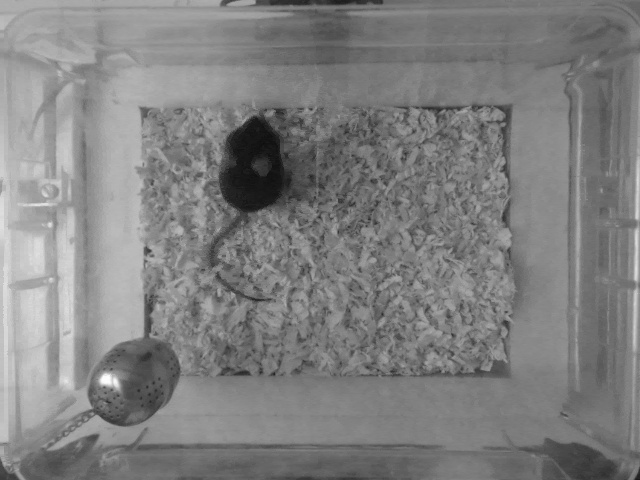mice: (208, 113, 289, 302)
